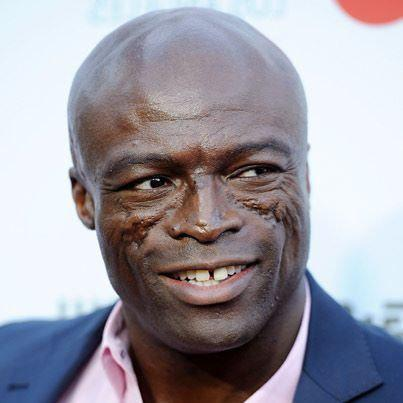Sober: (88, 67, 302, 332)
